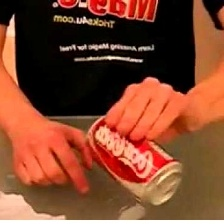can: (80, 107, 188, 210)
